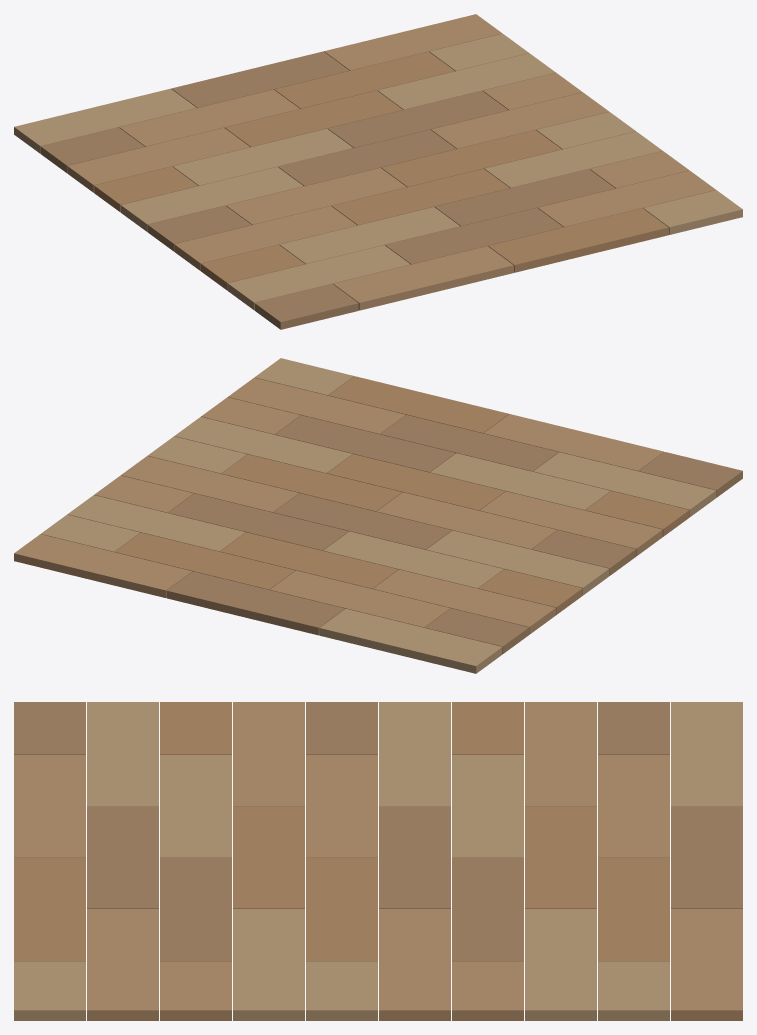
Rendered from plank_floor_tile.glb.
3 renders of one model, top to bottom at view 1: azimuth 30°, elevation 25°; view 2: azimuth 150°, elevation 25°; view 3: azimuth 270°, elevation 25°, orthographic. The views are drawn at different scales.
Visible parts, largest first — view 1: Floorboard.001, Floorboard.002, Floorboard.004, Floorboard.025, Floorboard.011, Floorboard.018, Floorboard.032, Floorboard.008, Floorboard.022, Floorboard.029, Floorboard.030, Floorboard.015 (+23 smaller); view 2: Floorboard.032, Floorboard.033, Floorboard.034, Floorboard.018, Floorboard.004, Floorboard.025, Floorboard.011, Floorboard.008, Floorboard.002, Floorboard.015, Floorboard.001, Floorboard.022 (+23 smaller); view 3: Floorboard.006, Floorboard.013, Floorboard.020, Floorboard.027, Floorboard.034, Floorboard.004, Floorboard.011, Floorboard.018, Floorboard.025, Floorboard.032, Floorboard.001, Floorboard.002 (+23 smaller).
Boxes of the visible parts, x1,y1,x2,y2 form: Floorboard.001: (333, 246, 513, 310); Floorboard.002: (488, 208, 668, 272); Floorboard.004: (227, 245, 410, 310); Floorboard.025: (67, 128, 249, 192); Floorboard.011: (174, 206, 357, 270); Floorboard.018: (121, 167, 303, 231); Floorboard.032: (14, 88, 196, 153); Floorboard.008: (280, 207, 460, 264); Floorboard.022: (173, 129, 353, 185); Floorboard.029: (119, 89, 299, 146); Floorboard.030: (274, 51, 454, 108); Floorboard.015: (226, 168, 406, 224); Floorboard.032: (319, 609, 502, 673); Floorboard.033: (166, 571, 344, 635); Floorboard.034: (14, 534, 192, 597); Floorboard.018: (426, 530, 609, 595); Floorboard.004: (533, 452, 716, 516); Floorboard.025: (373, 569, 555, 634); Floorboard.011: (480, 491, 662, 556); Floorboard.008: (430, 453, 610, 510); Floorboard.002: (328, 376, 509, 433); Floorboard.015: (376, 492, 557, 549); Floorboard.001: (483, 414, 663, 471); Floorboard.022: (323, 531, 503, 588); Floorboard.006: (87, 909, 158, 1020); Floorboard.013: (233, 909, 304, 1020); Floorboard.020: (379, 909, 450, 1020); Floorboard.027: (525, 909, 596, 1020); Floorboard.034: (671, 909, 742, 1020); Floorboard.004: (87, 702, 158, 806); Floorboard.011: (233, 702, 304, 806); Floorboard.018: (379, 702, 450, 806); Floorboard.025: (525, 702, 596, 806); Floorboard.032: (671, 702, 742, 806); Floorboard.001: (14, 754, 85, 857); Floorboard.002: (14, 858, 85, 961).
Bounding box in the file's own units: 2 × 0.032 × 2.
